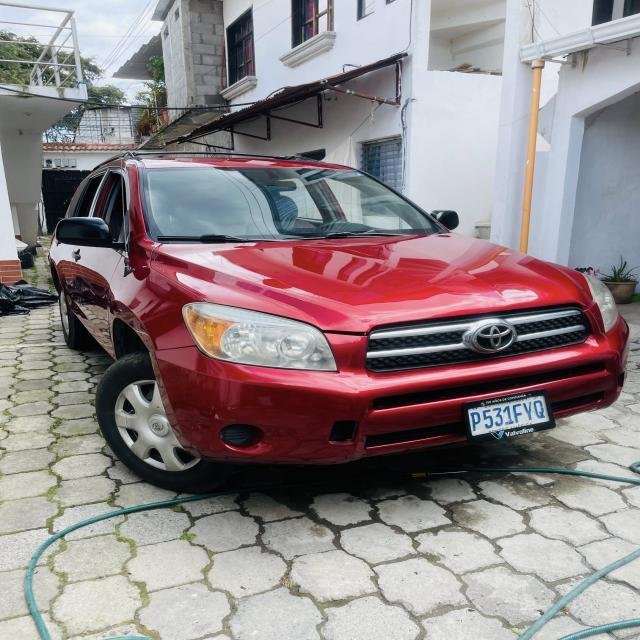Placas: (466, 392, 553, 441)
